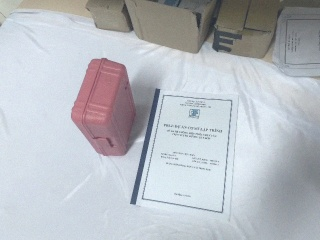box: (69, 56, 136, 158), (127, 1, 211, 55), (212, 1, 282, 58), (83, 1, 133, 34)
